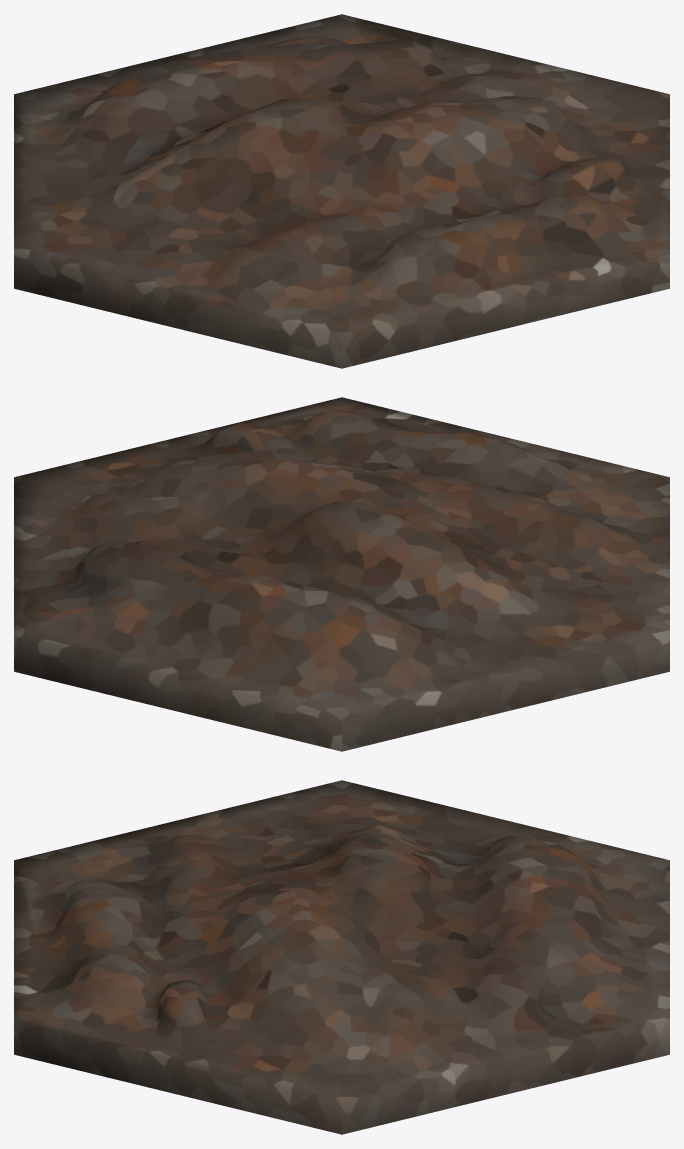
The model's file is HexTop_IronGround.fbx.
3 renders of one model, top to bottom at view 1: azimuth 30°, elevation 25°; view 2: azimuth 150°, elevation 25°; view 3: azimuth 270°, elevation 25°, orthographic.
Parts seen in each view (by area): view 1: HexTop_IronGround; view 2: HexTop_IronGround; view 3: HexTop_IronGround.
Part boxes in pixels (x1,y1,x2,y2): HexTop_IronGround: (14, 14, 669, 368); HexTop_IronGround: (14, 397, 669, 751); HexTop_IronGround: (14, 780, 669, 1134).
Bounding box in the file's own units: 100 × 14.3 × 86.6.
